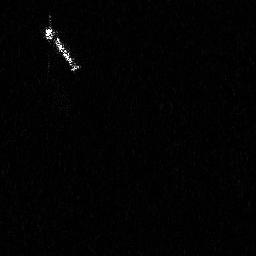ship: (42, 24, 80, 72)
